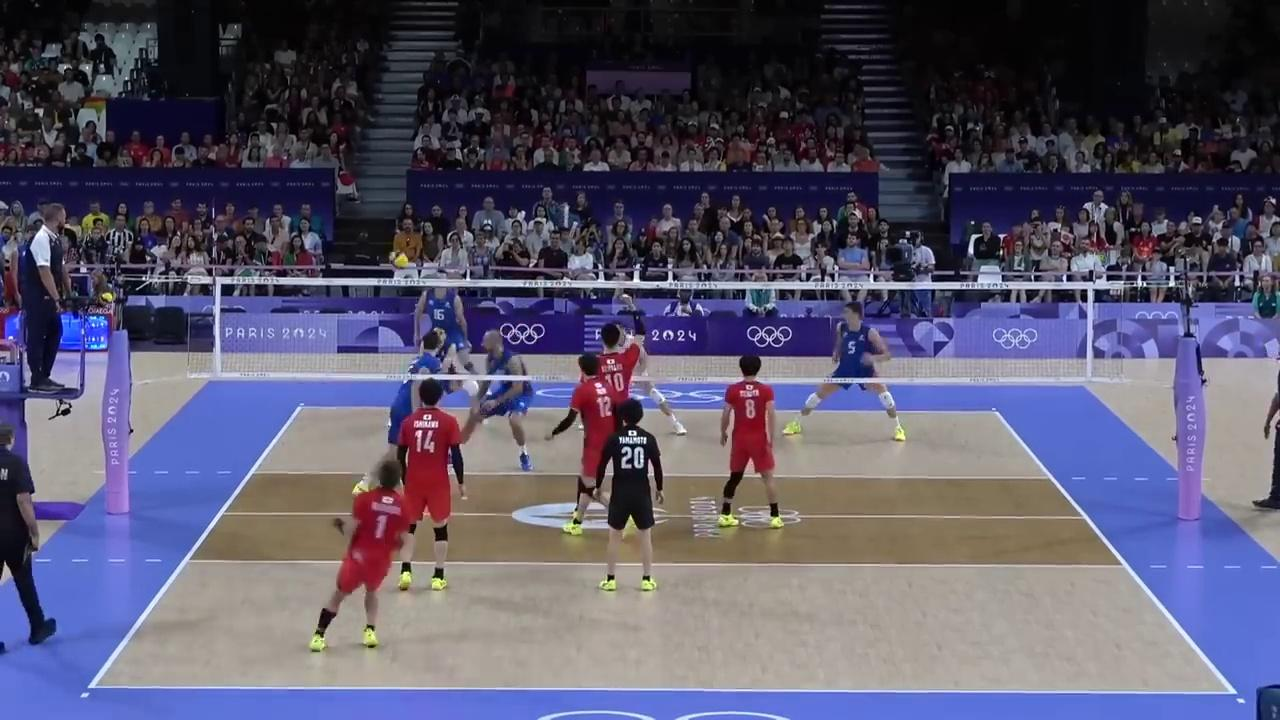ball: (389, 252, 408, 269)
